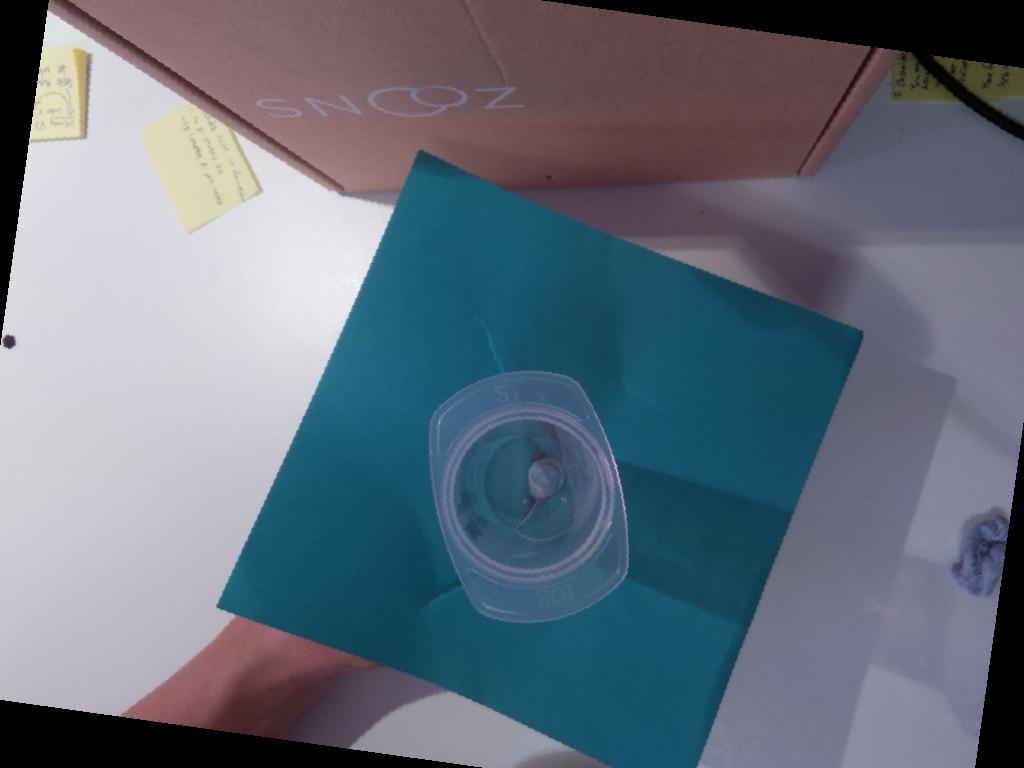clean: (428, 370, 631, 625)
